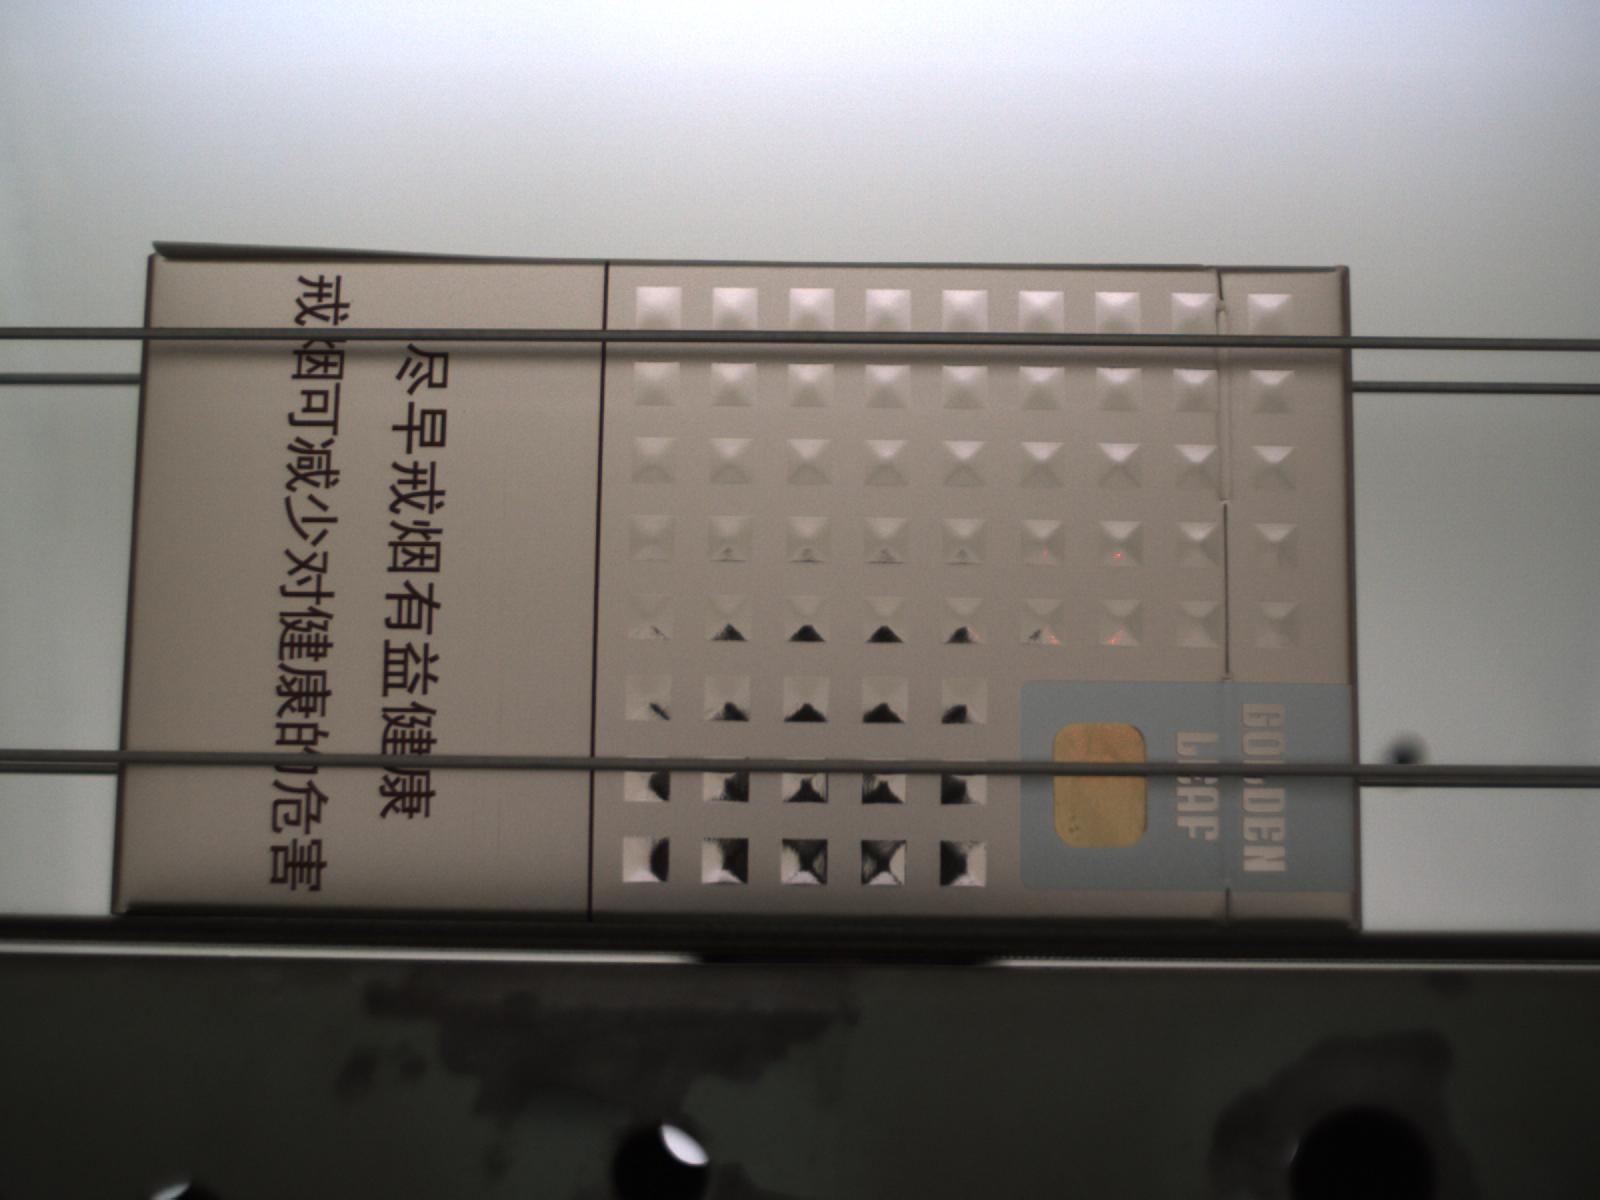bottomUpwarp_upper_1: (150, 238, 513, 266)
dirtyScratch: (484, 650, 511, 860)
